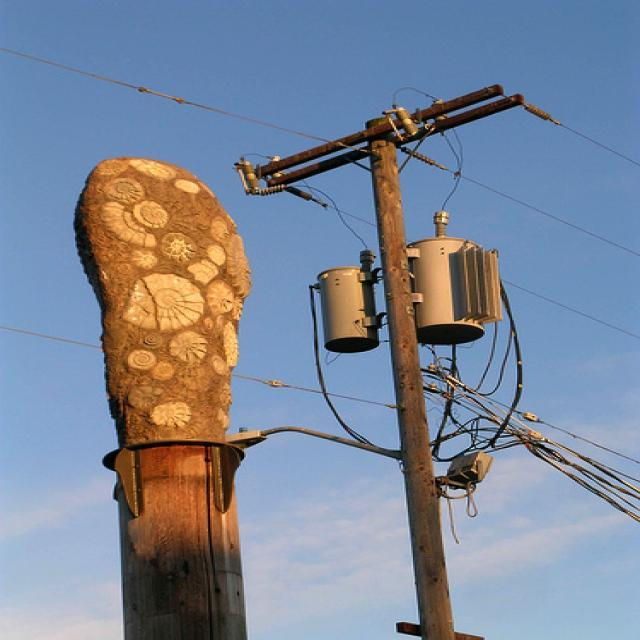pole: (232, 86, 544, 640)
transformer: (410, 206, 506, 351), (315, 265, 381, 355)
wire: (2, 321, 394, 412), (4, 44, 337, 142), (421, 153, 635, 256), (452, 379, 640, 495), (471, 390, 640, 466), (525, 447, 640, 524), (503, 278, 639, 340)
